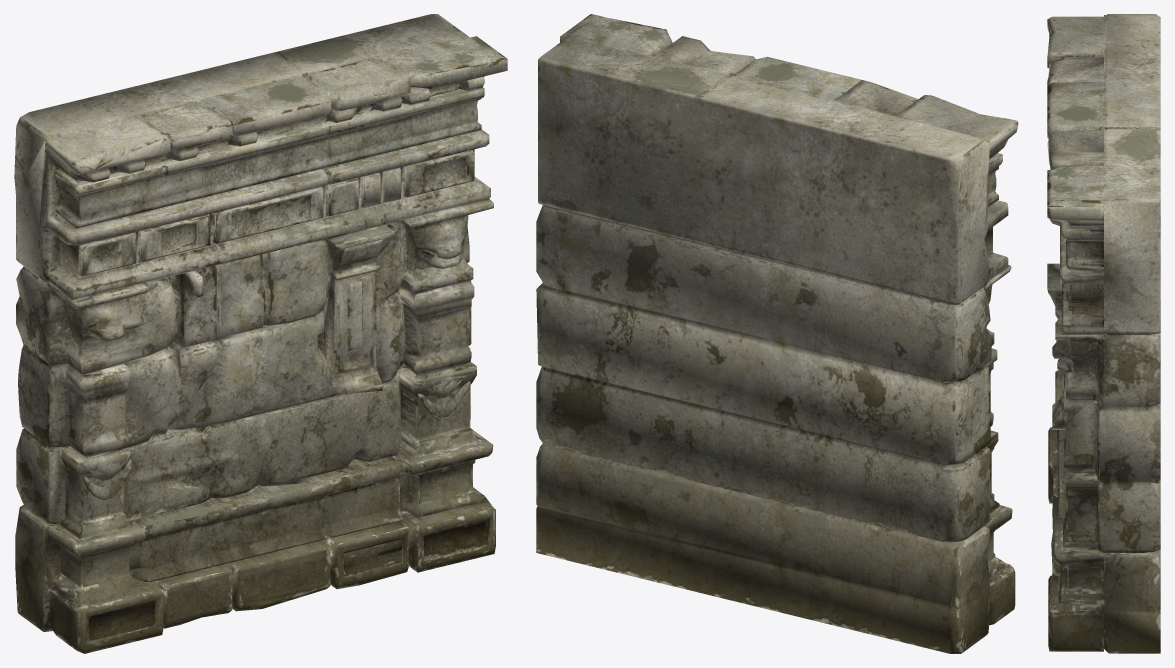
File: wall_3.glb
The picture shows the model from 3 angles, left to right: view 1: azimuth 30°, elevation 25°; view 2: azimuth 150°, elevation 25°; view 3: azimuth 270°, elevation 25°; orthographic projection. The views are drawn at different scales.
Visible parts, largest first — view 1: mesh_rep_0_ori_repair.002_StoneWall1_0; view 2: mesh_rep_0_ori_repair.002_StoneWall1_0; view 3: mesh_rep_0_ori_repair.002_StoneWall1_0.
Boxes of the visible parts, x1,y1,x2,y2 form: mesh_rep_0_ori_repair.002_StoneWall1_0: (14,14,507,653); mesh_rep_0_ori_repair.002_StoneWall1_0: (536,14,1018,653); mesh_rep_0_ori_repair.002_StoneWall1_0: (1047,14,1160,653).
Bounding box in the file's own units: 0.8047 × 0.8804 × 0.1995.
Materials: 1 (1 with a texture image).
